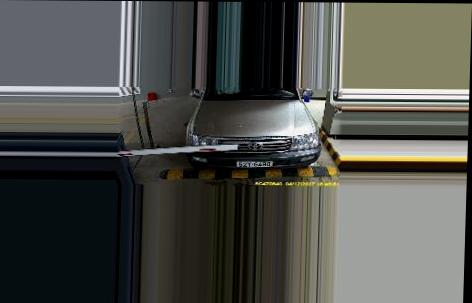License_Plate: (237, 158, 273, 168)
